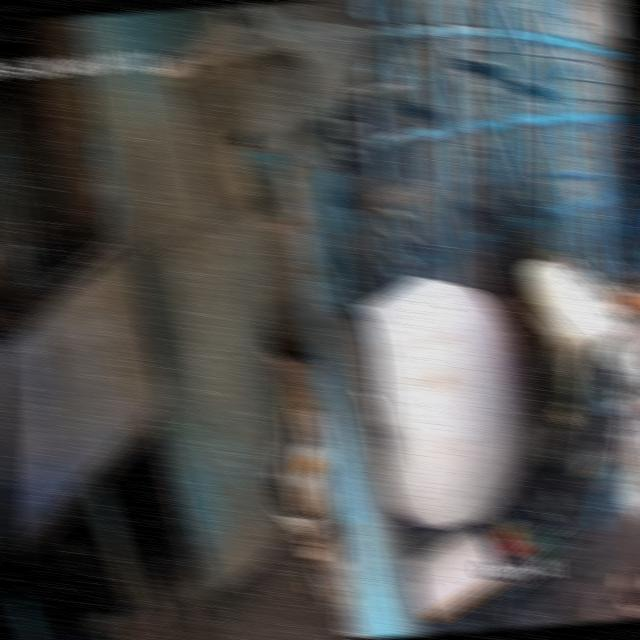cement_mixer_truck: (257, 247, 640, 640)
swing_chute: (232, 129, 331, 324)
